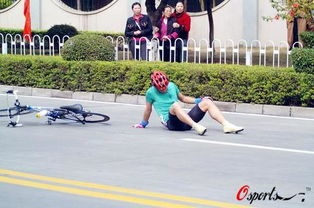falling: (127, 66, 246, 136)
